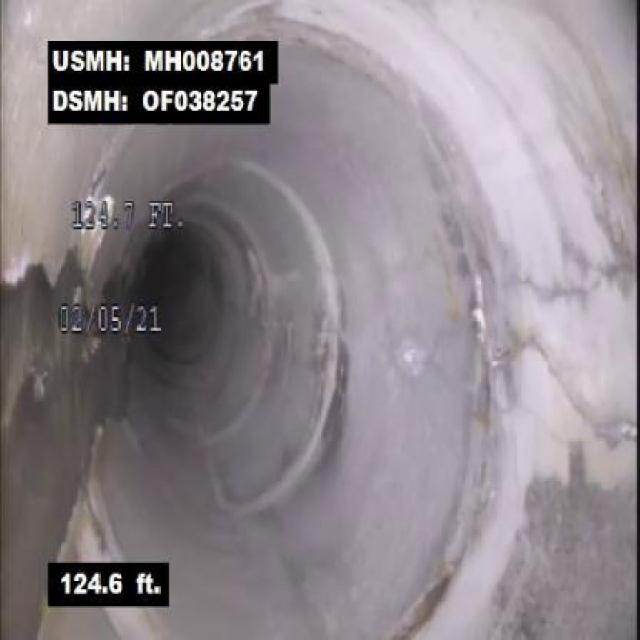Crack: (483, 328, 595, 430), (492, 249, 638, 311)
